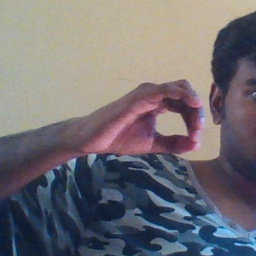O: (78, 74, 206, 162)
